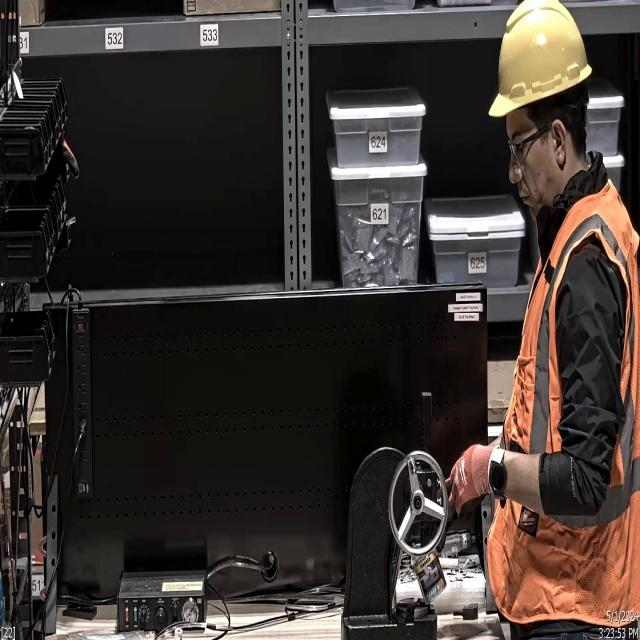construction-gloves: (442, 442, 504, 511)
